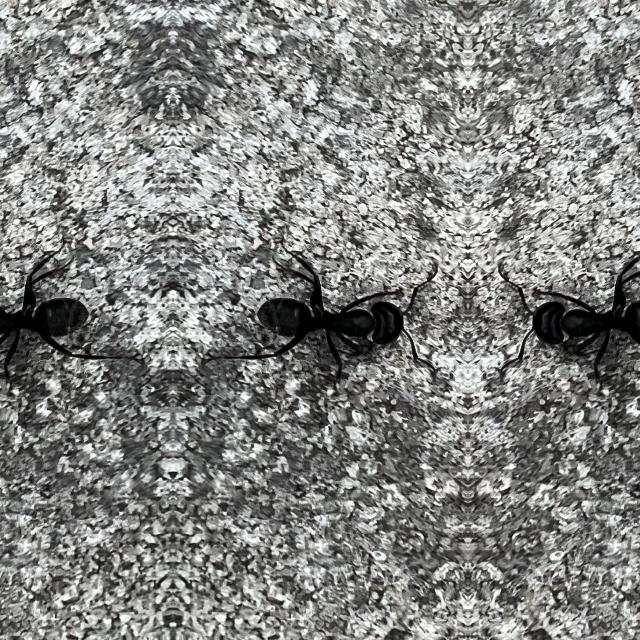Camponotus: (215, 227, 451, 396), (484, 226, 640, 394), (0, 225, 128, 394)
